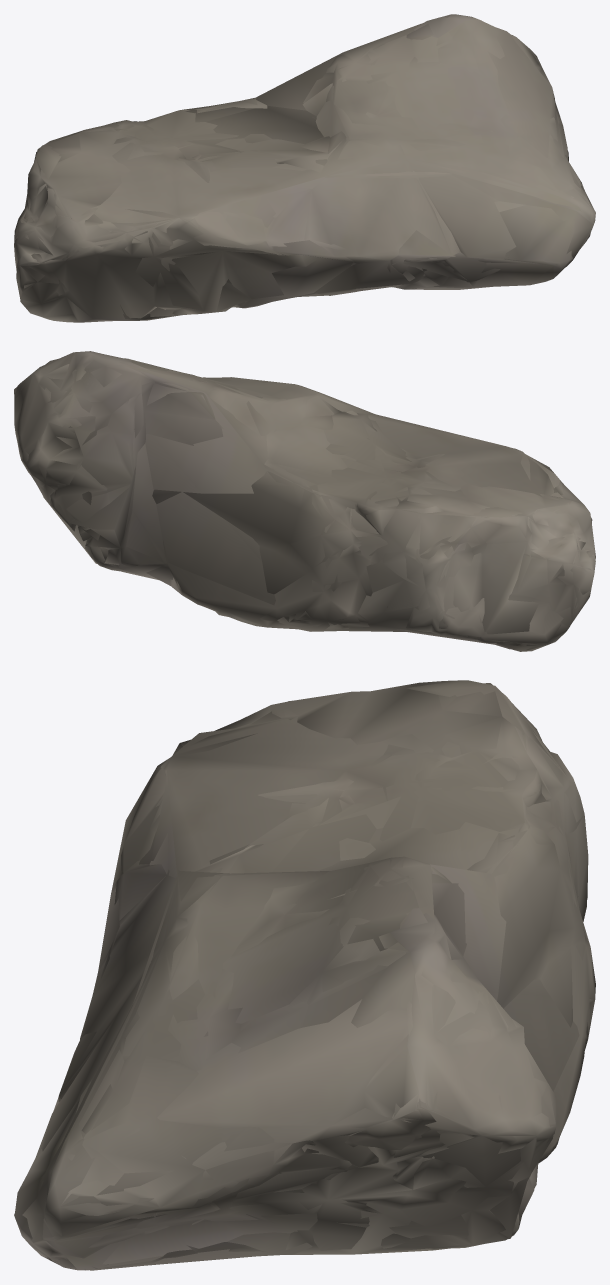
File: moon_rock_01_lod2.glb
The picture shows the model from 3 angles, top to bottom: view 1: azimuth 30°, elevation 25°; view 2: azimuth 150°, elevation 25°; view 3: azimuth 270°, elevation 25°; orthographic projection. The views are drawn at different scales.
Parts seen in each view (by area): view 1: moon_rock_01_LOD0; view 2: moon_rock_01_LOD0; view 3: moon_rock_01_LOD0.
Boxes of the visible parts, bbox=[...] form: moon_rock_01_LOD0: bbox=[14, 14, 595, 322]; moon_rock_01_LOD0: bbox=[14, 351, 595, 651]; moon_rock_01_LOD0: bbox=[14, 680, 595, 1270].
Bounding box in the file's own units: 0.2123 × 0.0751 × 0.1114.
Materials: 1 (1 with a texture image).
